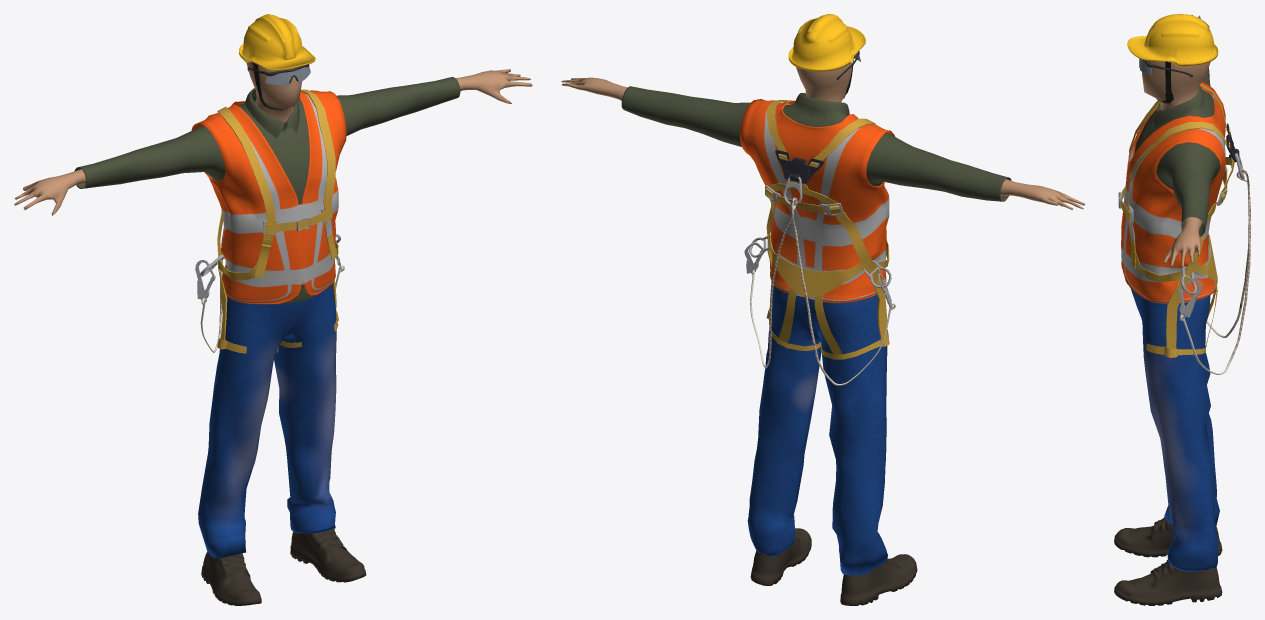
The model's file is Mannequin_Embedded_02.fbx.
3 views of the same model, side by side, from view 1: azimuth 30°, elevation 25°; view 2: azimuth 150°, elevation 25°; view 3: azimuth 270°, elevation 25° (orthographic).
Visible parts, largest first — view 1: Mannequin_geo, Jacket_geo, Harness_geo, Boots_geo, Helmet_geo, Safety Goggles_geo; view 2: Mannequin_geo, Jacket_geo, Harness_geo, Boots_geo, Helmet_geo, Rope; view 3: Mannequin_geo, Jacket_geo, Boots_geo, Harness_geo, Helmet_geo, Rope, Lanyard._01, Safety Goggles_geo, Helmet_geo.001.
Part boxes in pixels (x1,y1,x2,y2): Mannequin_geo: (14,61,532,558); Jacket_geo: (191,90,346,304); Harness_geo: (217,89,338,353); Boots_geo: (201,528,366,605); Helmet_geo: (239,14,315,70); Safety Goggles_geo: (247,64,310,85); Mannequin_geo: (561,61,1084,575); Jacket_geo: (740,99,895,303); Harness_geo: (765,100,889,359); Boots_geo: (750,528,917,605); Helmet_geo: (788,14,865,71); Rope: (750,197,895,385); Mannequin_geo: (1127,15,1220,571); Jacket_geo: (1121,81,1225,303); Boots_geo: (1114,517,1222,605); Harness_geo: (1124,84,1244,357); Helmet_geo: (1127,14,1218,66); Rope: (1179,170,1250,374); Lanyard._01: (1178,278,1201,318); Safety Goggles_geo: (1139,58,1192,77); Helmet_geo.001: (1156,62,1173,103).
Bounding box in the file's own units: 177 × 182 × 40.37.
Materials: 1 (1 with a texture image).
